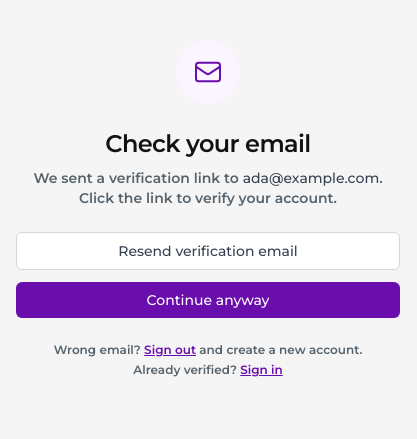
Test case: VerifyEmailClient › shows a friendly error when the SDK rejects the resend
Click the button "Resend verification email".
click(208, 251)  # box [16,232,400,270]
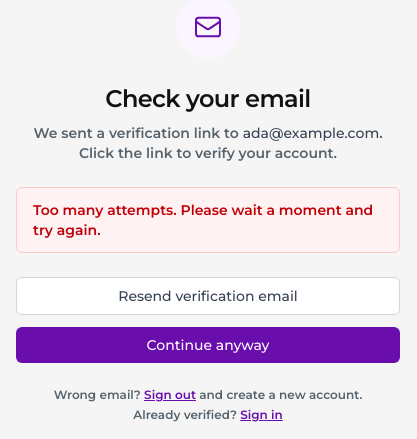
Check: the text "Too many attempts. Please wait a moment and try again." is shown, box [16,187,400,253]
